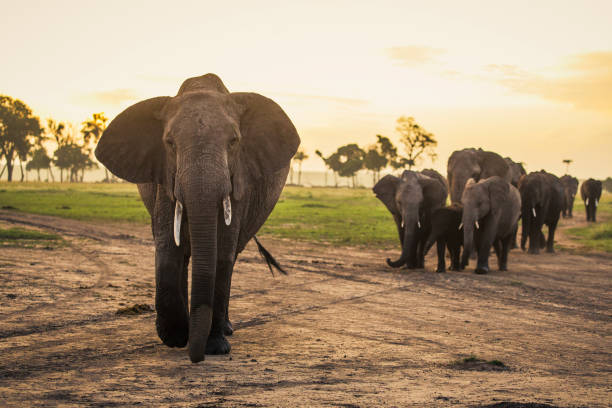africanelephant: (146, 90, 253, 252)
